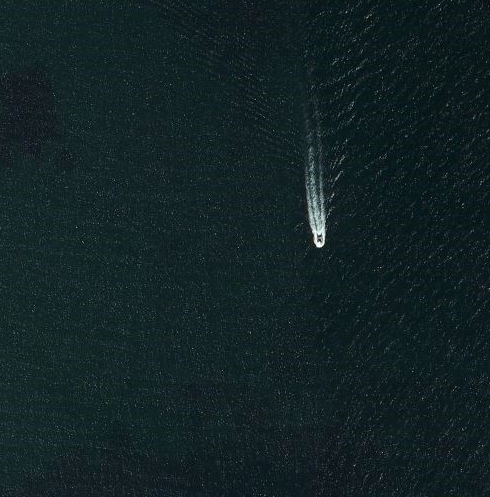ship: (308, 225, 330, 252)
